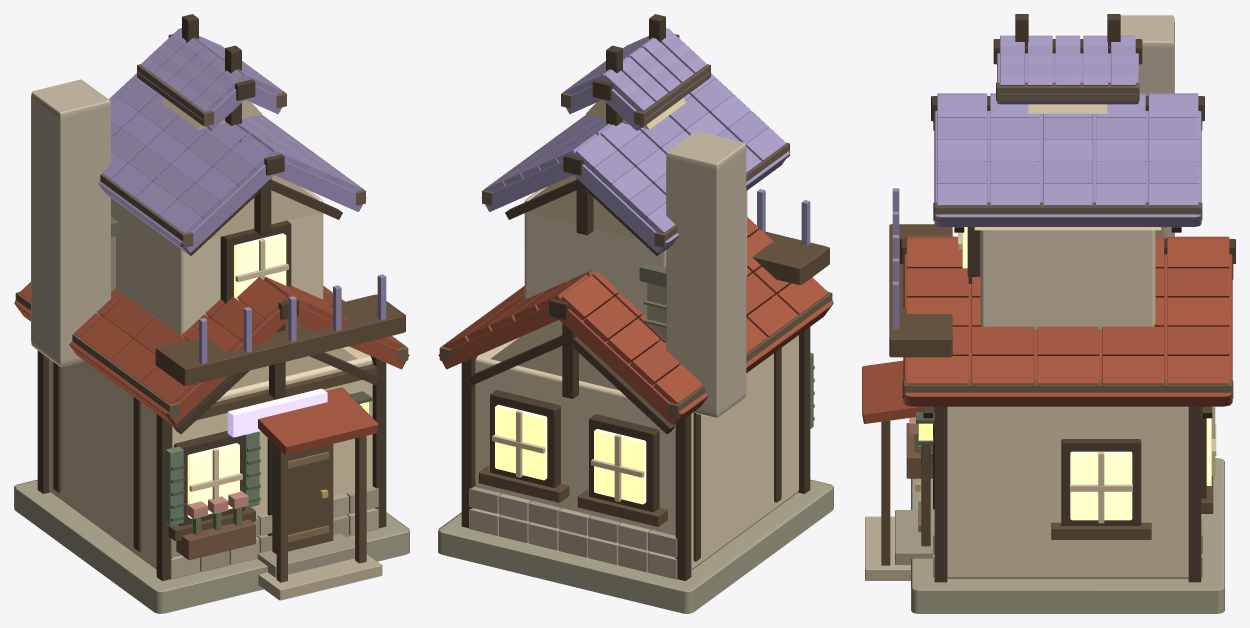
File: workshop-3-0.glb
3 views of the same model, side by side, from view 1: azimuth 30°, elevation 25°; view 2: azimuth 150°, elevation 25°; view 3: azimuth 270°, elevation 25° (orthographic). The views are drawn at different scales.
Parts seen in each view (by area): view 1: workshop-0-3, door-hinge; view 2: workshop-0-3; view 3: workshop-0-3, door-hinge.
Boxes of the visible parts, x1,y1,x2,y2 form: workshop-0-3: (14, 14, 409, 613); door-hinge: (272, 443, 333, 554); workshop-0-3: (438, 14, 833, 613); workshop-0-3: (862, 14, 1235, 613); door-hinge: (915, 424, 930, 546).
Size of the model in its own units: 1.91 by 3.51 by 2.24.
